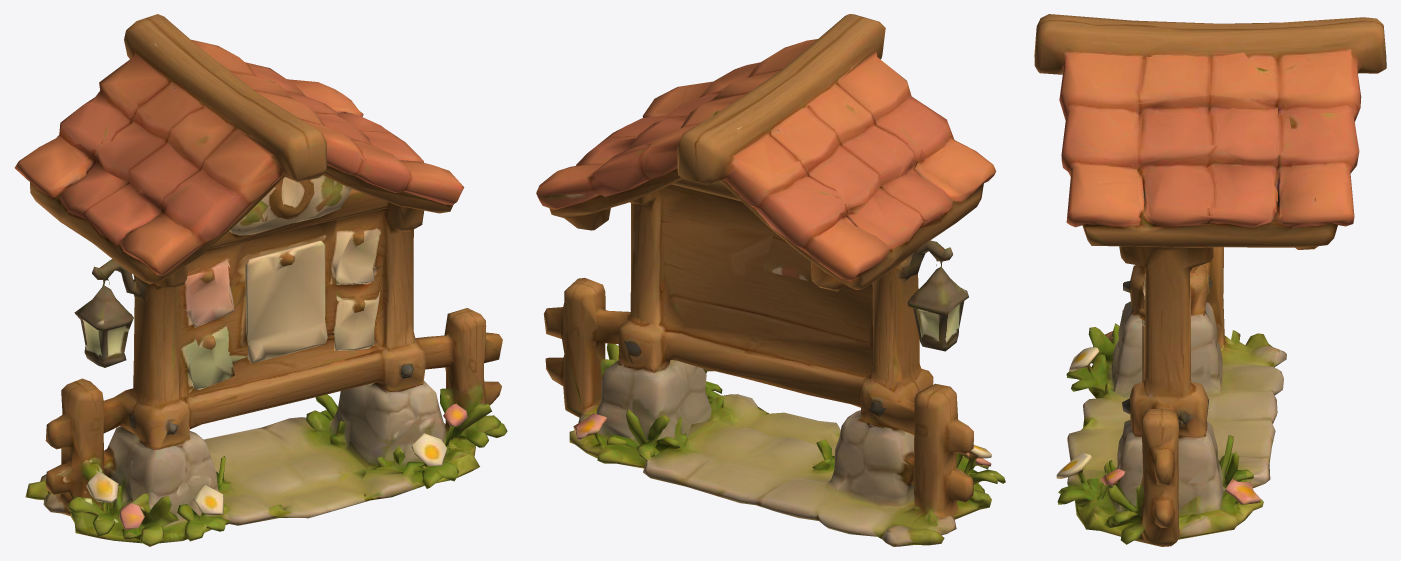
3 renders of one model, left to right at view 1: azimuth 30°, elevation 25°; view 2: azimuth 150°, elevation 25°; view 3: azimuth 270°, elevation 25°, orthographic. The views are drawn at different scales.
Parts seen in each view (by area): view 1: tripo_node_962ee318-f356-41fc-a730-feeeb21c03d3; view 2: tripo_node_962ee318-f356-41fc-a730-feeeb21c03d3; view 3: tripo_node_962ee318-f356-41fc-a730-feeeb21c03d3.
Boxes of the visible parts, x1,y1,x2,y2 form: tripo_node_962ee318-f356-41fc-a730-feeeb21c03d3: [14, 14, 507, 546]; tripo_node_962ee318-f356-41fc-a730-feeeb21c03d3: [536, 14, 1005, 546]; tripo_node_962ee318-f356-41fc-a730-feeeb21c03d3: [1034, 14, 1386, 546].
Size of the model in its own units: 2.75 by 2.4 by 1.86.
Materials: 1 (1 with a texture image).
